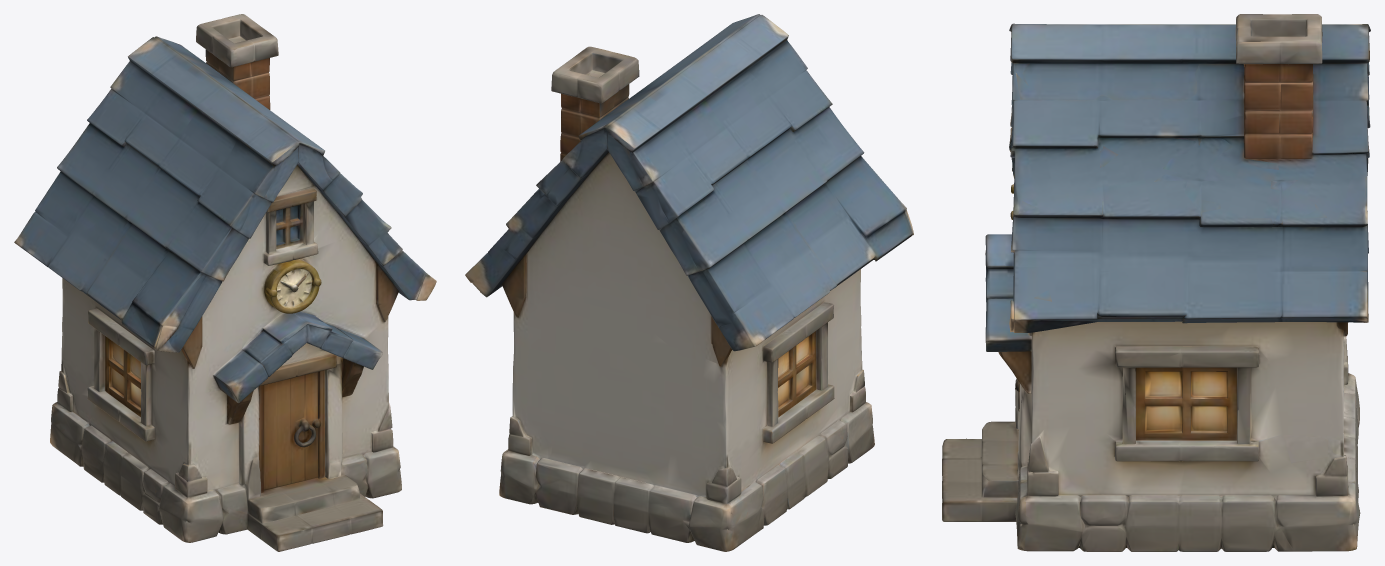
The model's file is house.glb.
3 renders of one model, left to right at view 1: azimuth 30°, elevation 25°; view 2: azimuth 150°, elevation 25°; view 3: azimuth 270°, elevation 25°, orthographic. The views are drawn at different scales.
Parts seen in each view (by area): view 1: node_0; view 2: node_0; view 3: node_0.
Part boxes in pixels (x1,y1,x2,y2): node_0: [14, 14, 436, 551]; node_0: [465, 14, 913, 551]; node_0: [942, 14, 1370, 551].
Size of the model in its own units: 0.6508 by 0.8796 by 0.6982.
Materials: 1 (1 with a texture image).
